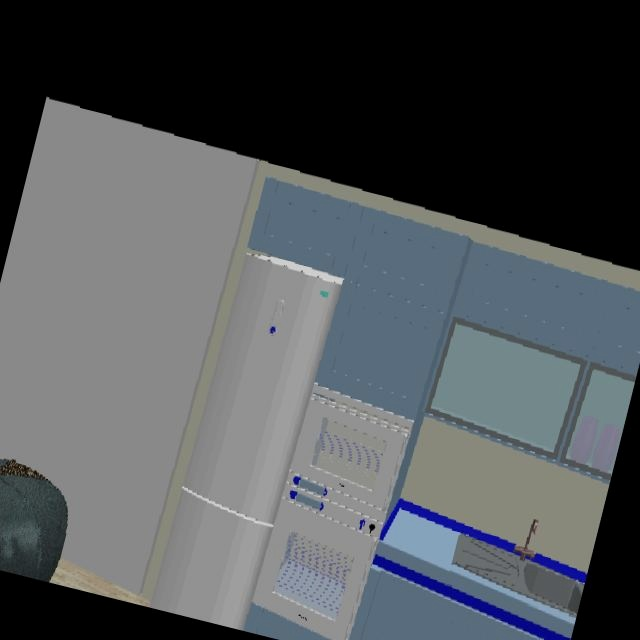countertop: (386, 518, 458, 567)
fridge: (149, 251, 343, 630)
microwave: (290, 386, 413, 508)
oven: (253, 501, 378, 640)
sink: (451, 532, 587, 617)
